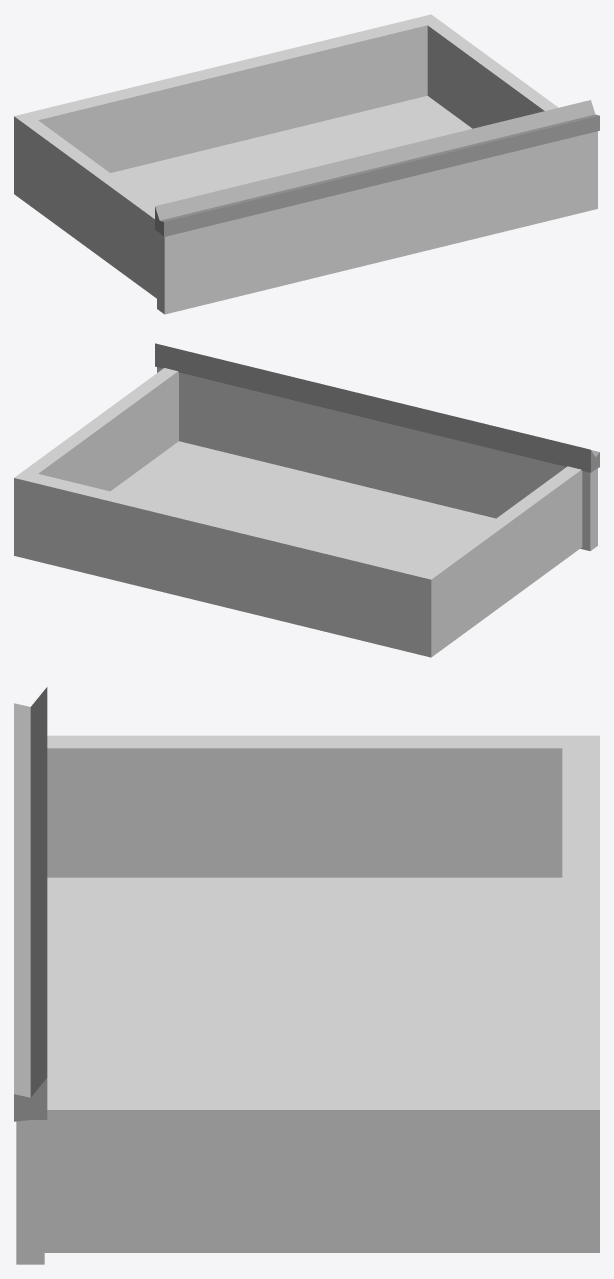
Rendered from drawer_ac_1.glb.
The picture shows the model from 3 angles, top to bottom: view 1: azimuth 30°, elevation 25°; view 2: azimuth 150°, elevation 25°; view 3: azimuth 270°, elevation 25°; orthographic projection. The views are drawn at different scales.
Visible parts, largest first — view 1: Drawer Ac 1; view 2: Drawer Ac 1; view 3: Drawer Ac 1.
Boxes of the visible parts, bbox=[...] form: Drawer Ac 1: bbox=[14, 14, 599, 314]; Drawer Ac 1: bbox=[14, 343, 599, 657]; Drawer Ac 1: bbox=[14, 687, 599, 1264].
Size of the model in its own units: 0.9299 by 0.2089 by 0.5892.
1 material, 1 textured.
